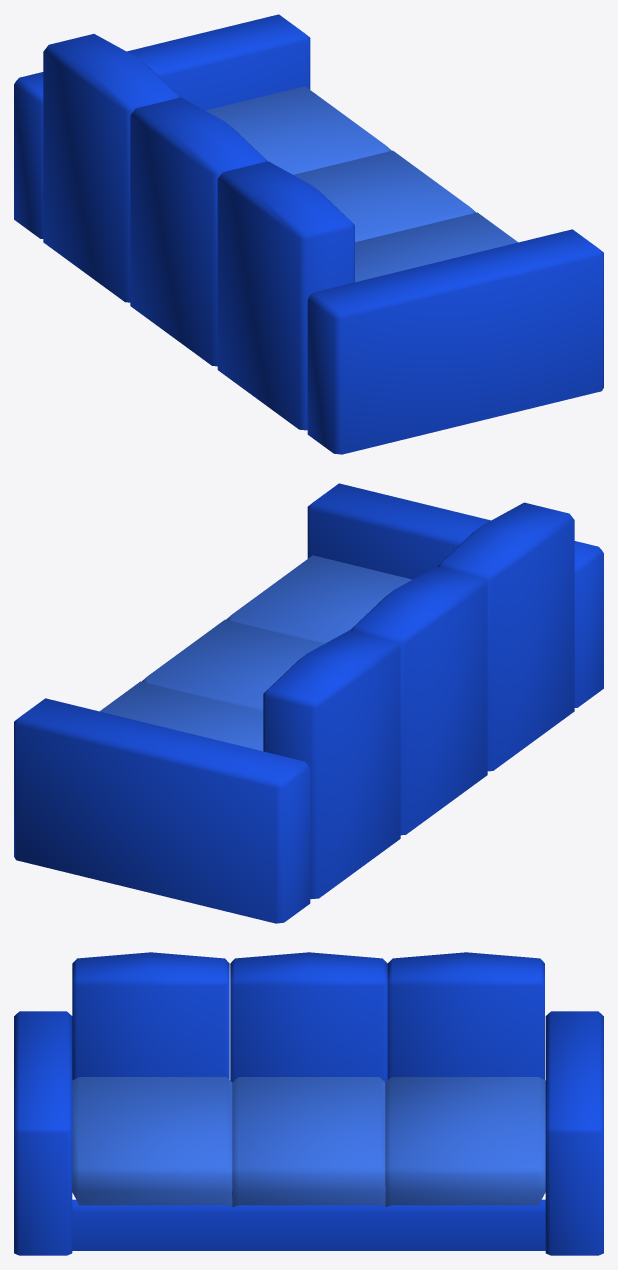
Rendered from sofa2.fbx.
3 views of the same model, one above another, from view 1: azimuth 30°, elevation 25°; view 2: azimuth 150°, elevation 25°; view 3: azimuth 270°, elevation 25° (orthographic). The views are drawn at different scales.
Visible parts, largest first — view 1: low_poly_interior_190; view 2: low_poly_interior_190; view 3: low_poly_interior_190.
Part boxes in pixels (bbox=[...]): low_poly_interior_190: bbox=[14, 14, 603, 454]; low_poly_interior_190: bbox=[14, 483, 603, 923]; low_poly_interior_190: bbox=[14, 952, 603, 1255].
Size of the model in its own units: 2.56 by 1.82 by 5.29.
